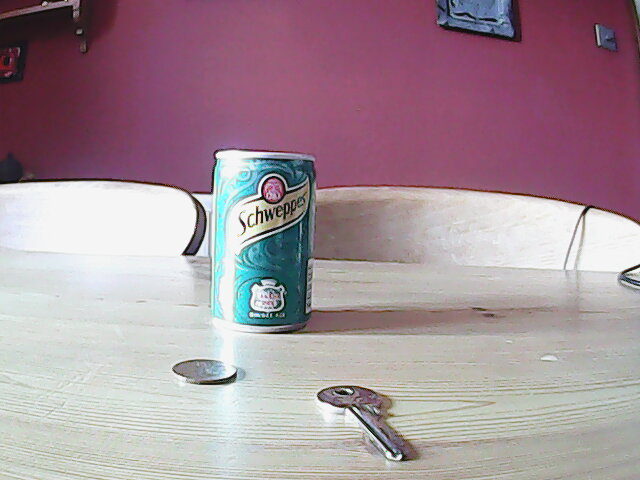Can: (208, 146, 319, 338)
Coin: (169, 355, 240, 389)
Key: (314, 382, 410, 469)
